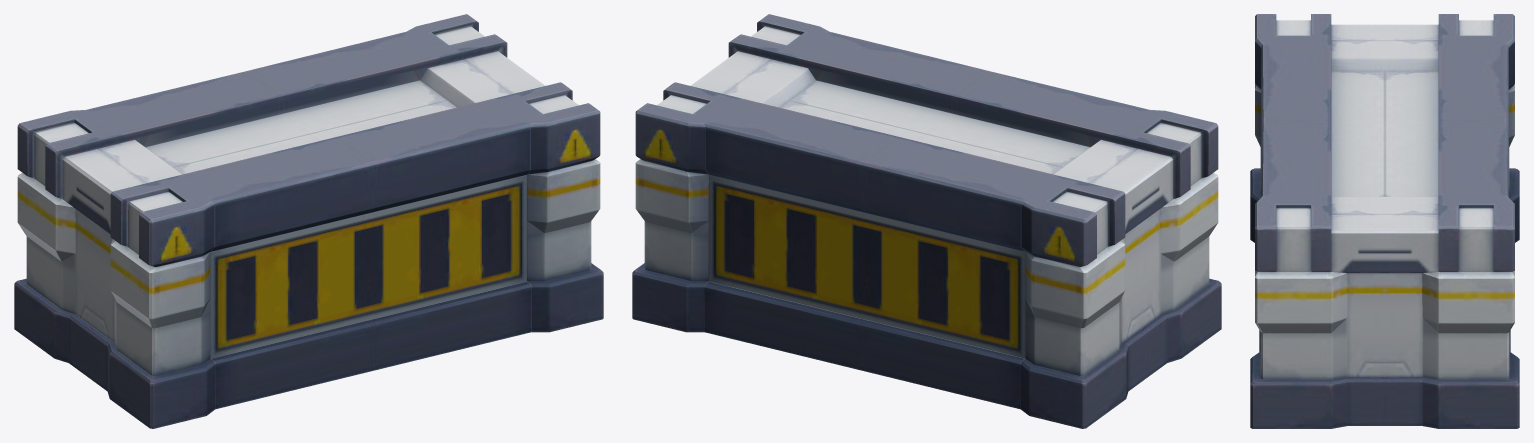
The model's file is Prop_xiangzi.FBX.
3 renders of one model, left to right at view 1: azimuth 30°, elevation 25°; view 2: azimuth 150°, elevation 25°; view 3: azimuth 270°, elevation 25°, orthographic. The views are drawn at different scales.
Visible parts, largest first — view 1: Prop_xiangzi; view 2: Prop_xiangzi; view 3: Prop_xiangzi.
Boxes of the visible parts, <box> form: Prop_xiangzi: <box>14,14,603,428</box>; Prop_xiangzi: <box>632,14,1221,428</box>; Prop_xiangzi: <box>1250,14,1519,428</box>.
Bounding box in the file's own units: 3.03 × 1.32 × 1.6.
Materials: 1 (1 with a texture image).
